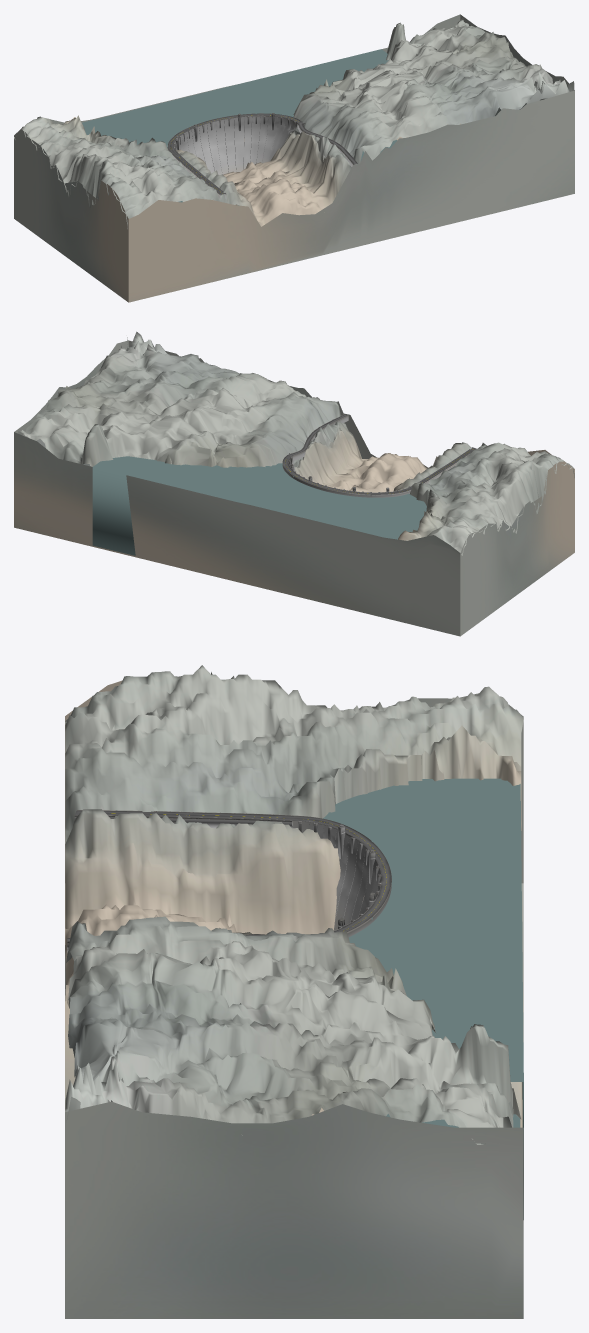
The model's file is dam.fbx.
3 views of the same model, one above another, from view 1: azimuth 30°, elevation 25°; view 2: azimuth 150°, elevation 25°; view 3: azimuth 270°, elevation 25° (orthographic). The views are drawn at different scales.
Parts seen in each view (by area): view 1: pCube1, pPlane1, polySurface4, polySurface2, Hoover_Dam:null_5, Hoover_Dam:null_3, Hoover_Dam:null_; view 2: pCube1, pPlane1, polySurface4, polySurface2, Hoover_Dam:null_3; view 3: pPlane1, pCube1, polySurface2, polySurface4, Hoover_Dam:null_3, Hoover_Dam:null_5, Hoover_Dam:null_.
Part boxes in pixels (x1,y1,x2,y2): pCube1: (14,14,574,302); pPlane1: (14,18,574,228); polySurface4: (82,49,386,145); polySurface2: (84,52,388,147); Hoover_Dam:null_5: (173,116,297,200); Hoover_Dam:null_3: (167,113,357,199); Hoover_Dam:null_: (174,113,295,150); pCube1: (14,340,574,636); pPlane1: (18,331,574,555); polySurface4: (92,460,423,555); polySurface2: (97,456,426,540); Hoover_Dam:null_3: (282,414,476,497); pPlane1: (65,665,523,1144); pCube1: (65,680,523,1318); polySurface2: (323,778,504,1048); polySurface4: (342,778,523,1219); Hoover_Dam:null_3: (67,810,391,952); Hoover_Dam:null_5: (292,821,381,930); Hoover_Dam:null_: (298,821,381,928).
Size of the model in its own units: 864 by 218 by 384.
